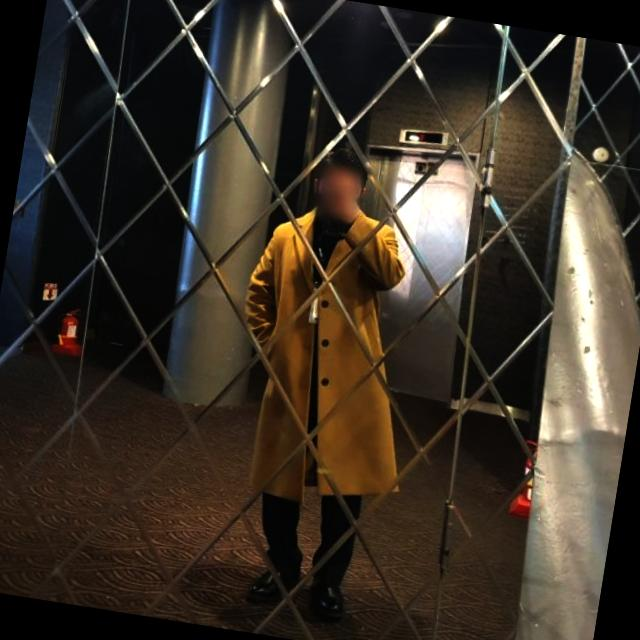coat: (212, 192, 445, 518)
slacks: (250, 476, 362, 596)
